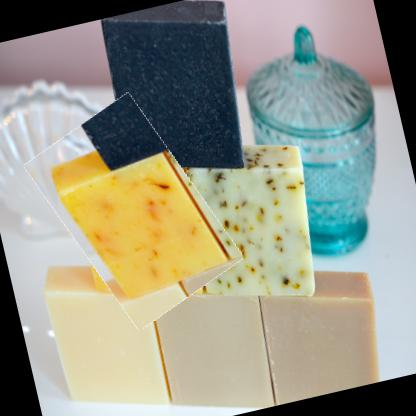soap: (31, 87, 237, 337)
